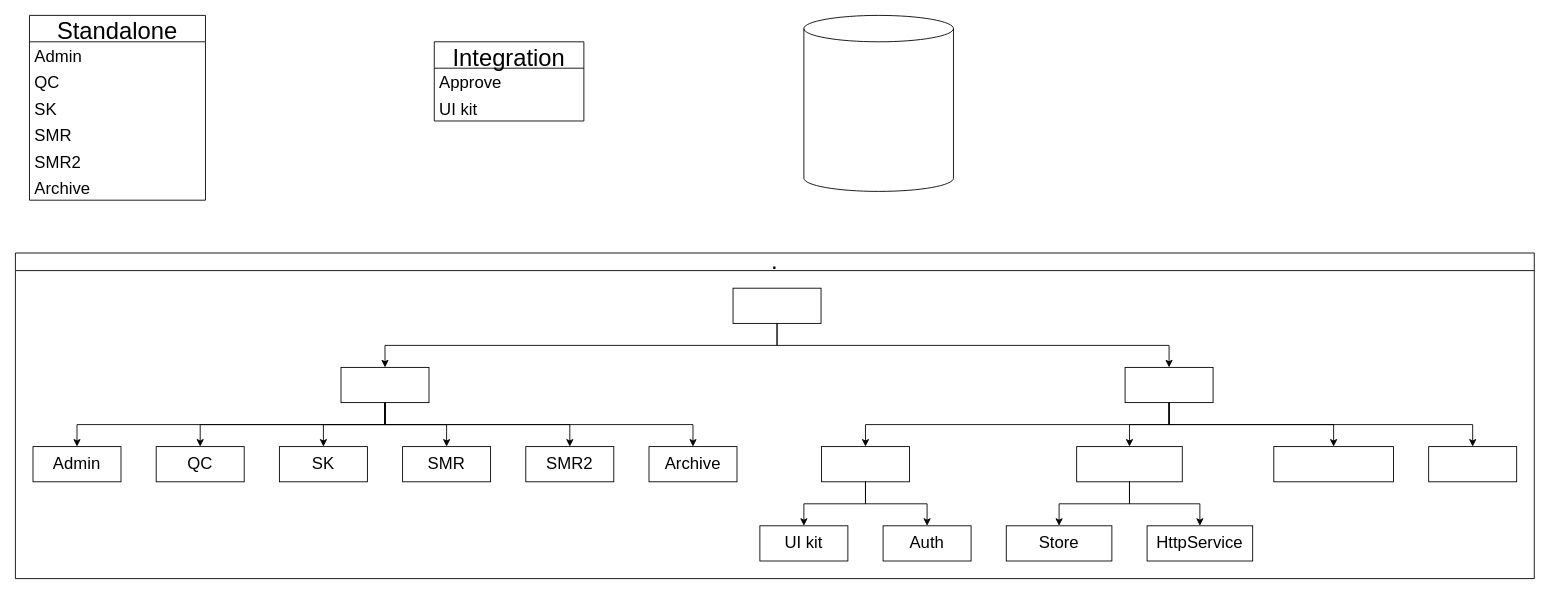
This 1550x594 diagram has some shape labels left out. Each missing label, with the centre of its shape:
"App" goes at point (384, 385).
"DataAccess" goes at point (1129, 464).
"Libs" goes at point (1168, 385).
"Libs for apps" goes at point (1333, 464).
"Root" goes at point (776, 305).
"Shared" goes at point (865, 464).
"Utils" goes at point (1472, 464).
